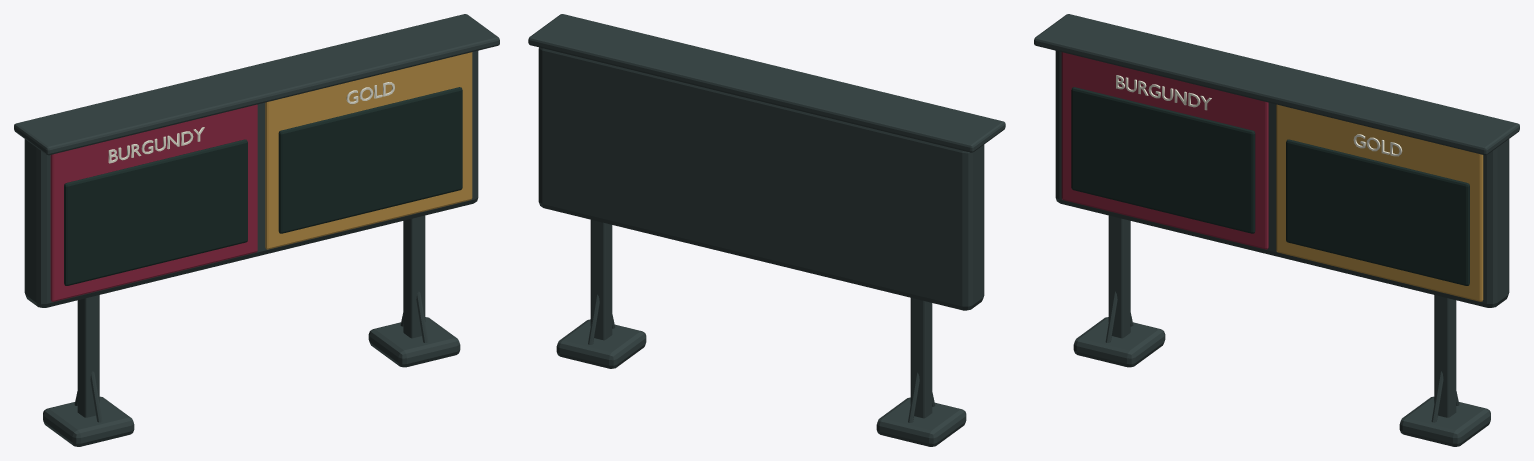
The model's file is pitch-scoreboard-v2.glb.
3 renders of one model, left to right at view 1: azimuth 30°, elevation 25°; view 2: azimuth 150°, elevation 25°; view 3: azimuth 330°, elevation 25°, orthographic.
Visible parts, largest first — view 1: scoreboard-digit-recess.001, scoreboard-digit-recess, scoreboard-visor, scoreboard-gold-panel, scoreboard-burgundy-panel, scoreboard-housing, scoreboard-foundation.001, scoreboard-foundation, scoreboard-leg, scoreboard-leg.001, scoreboard-label-BURGUNDY, scoreboard-braces; view 2: scoreboard-housing, scoreboard-visor, scoreboard-foundation, scoreboard-foundation.001, scoreboard-leg, scoreboard-leg.001, scoreboard-braces; view 3: scoreboard-digit-recess, scoreboard-digit-recess.001, scoreboard-visor, scoreboard-gold-panel, scoreboard-burgundy-panel, scoreboard-housing, scoreboard-foundation, scoreboard-foundation.001, scoreboard-leg.001, scoreboard-leg, scoreboard-label-BURGUNDY, scoreboard-braces.
Boxes of the visible parts, <box> form: scoreboard-digit-recess.001: <box>278,87,462,233</box>; scoreboard-digit-recess: <box>64,139,247,285</box>; scoreboard-visor: <box>14,14,499,155</box>; scoreboard-gold-panel: <box>265,52,472,249</box>; scoreboard-burgundy-panel: <box>50,104,257,301</box>; scoreboard-housing: <box>24,50,478,307</box>; scoreboard-foundation.001: <box>368,317,460,367</box>; scoreboard-foundation: <box>43,396,134,446</box>; scoreboard-leg: <box>77,295,99,417</box>; scoreboard-leg.001: <box>403,215,425,338</box>; scoreboard-label-BURGUNDY: <box>108,127,204,163</box>; scoreboard-braces: <box>74,291,428,422</box>; scoreboard-housing: <box>538,47,984,310</box>; scoreboard-visor: <box>528,14,1005,152</box>; scoreboard-foundation: <box>876,397,966,446</box>; scoreboard-foundation.001: <box>556,319,646,368</box>; scoreboard-leg: <box>910,298,932,418</box>; scoreboard-leg.001: <box>590,219,612,340</box>; scoreboard-braces: <box>588,294,935,422</box>; scoreboard-digit-recess: <box>1071,87,1255,233</box>; scoreboard-digit-recess.001: <box>1286,139,1469,285</box>; scoreboard-visor: <box>1034,14,1519,155</box>; scoreboard-gold-panel: <box>1276,104,1483,301</box>; scoreboard-burgundy-panel: <box>1061,52,1268,249</box>; scoreboard-housing: <box>1055,50,1509,307</box>; scoreboard-foundation: <box>1073,317,1165,367</box>; scoreboard-foundation.001: <box>1399,396,1490,446</box>; scoreboard-leg.001: <box>1434,295,1456,417</box>; scoreboard-leg: <box>1108,215,1130,338</box>; scoreboard-label-BURGUNDY: <box>1116,75,1211,110</box>; scoreboard-braces: <box>1105,291,1459,422</box>.
Size of the model in its own units: 6.68 by 4.42 by 1.03.
